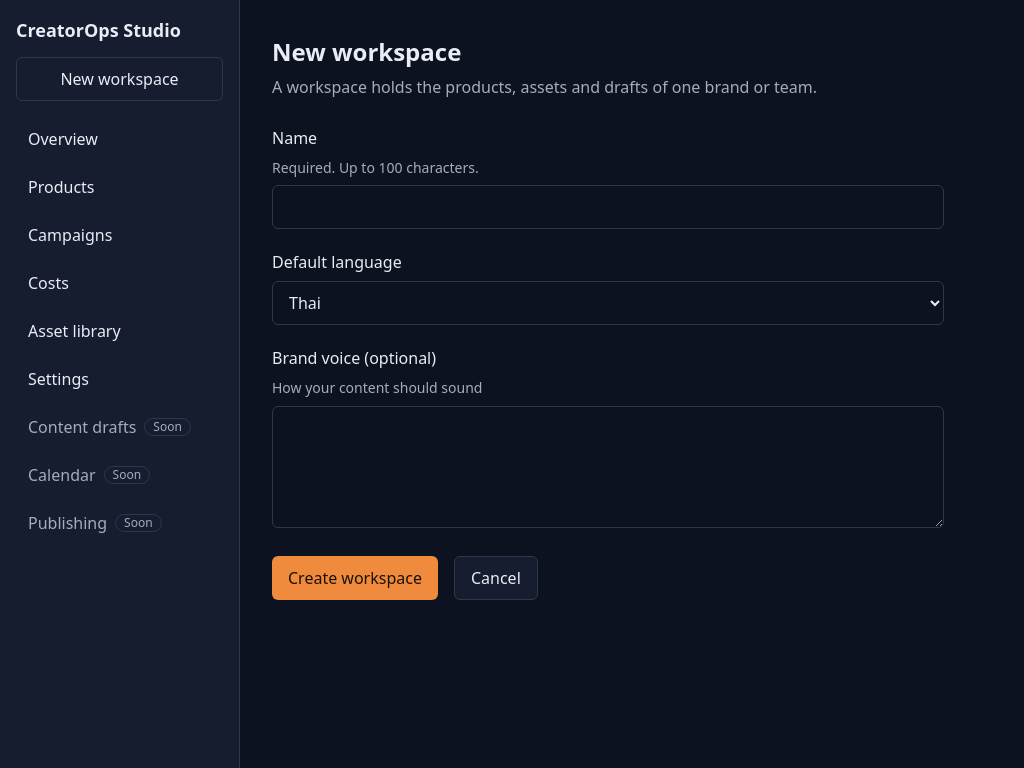
Test case: NewWorkspacePage › asks for a name and sends nothing
This screenshot has width=1024, height=768.
Click the button "Create workspace": x=355, y=578 [272,556,438,600]
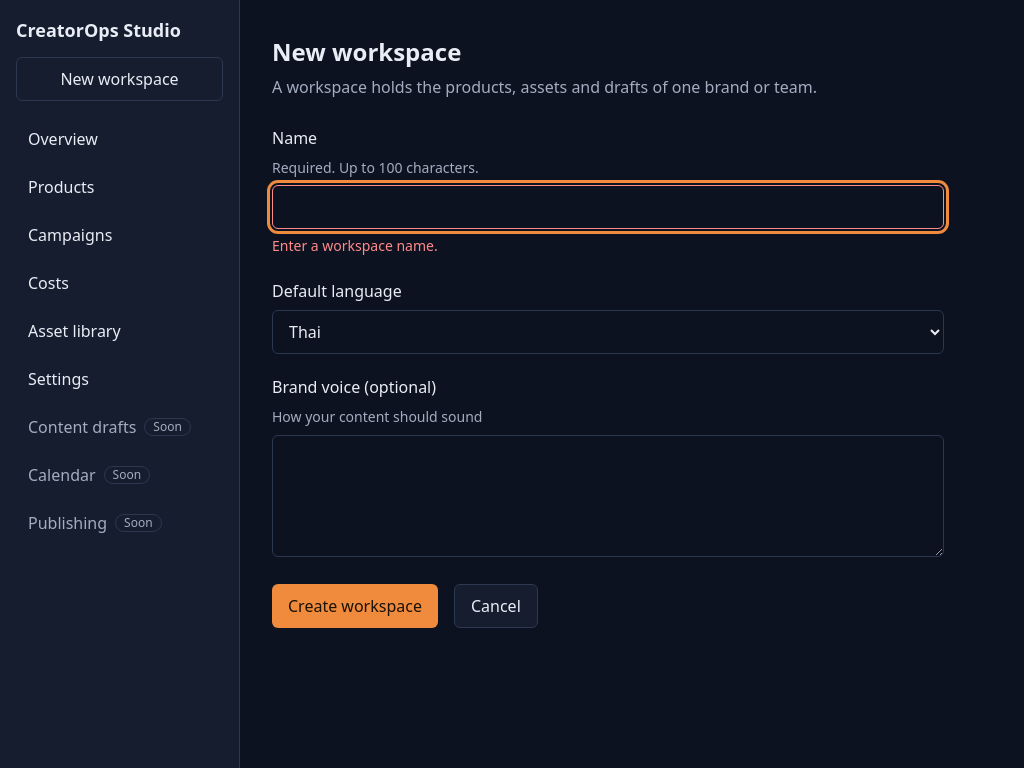
Result: the text "Enter a workspace name." is shown at [272,236,438,255]
